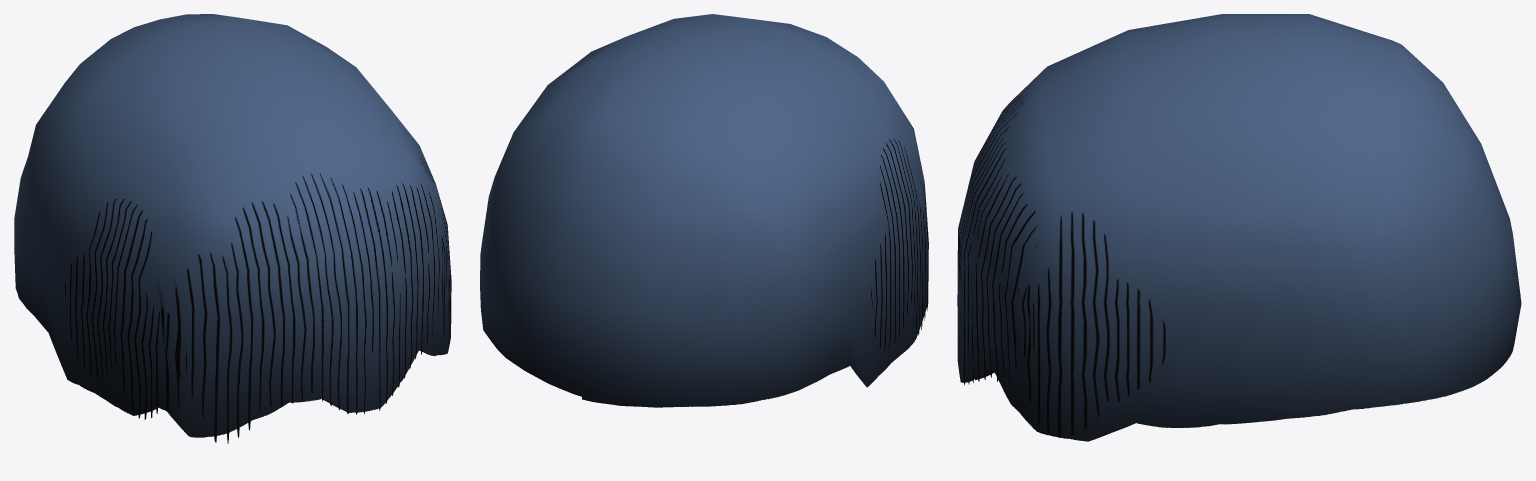
Rendered from Ghost Scalp.fbx.
The picture shows the model from 3 angles, left to right: view 1: azimuth 30°, elevation 25°; view 2: azimuth 150°, elevation 25°; view 3: azimuth 270°, elevation 25°; orthographic projection. The views are drawn at different scales.
Parts seen in each view (by area): view 1: Ghostly_Scalp; view 2: Ghostly_Scalp; view 3: Ghostly_Scalp.
Part boxes in pixels (bbox=[...]): Ghostly_Scalp: bbox=[14, 14, 451, 443]; Ghostly_Scalp: bbox=[480, 14, 928, 407]; Ghostly_Scalp: bbox=[957, 14, 1521, 441].
Bounding box in the file's own units: 31.5 × 31.14 × 39.8.
